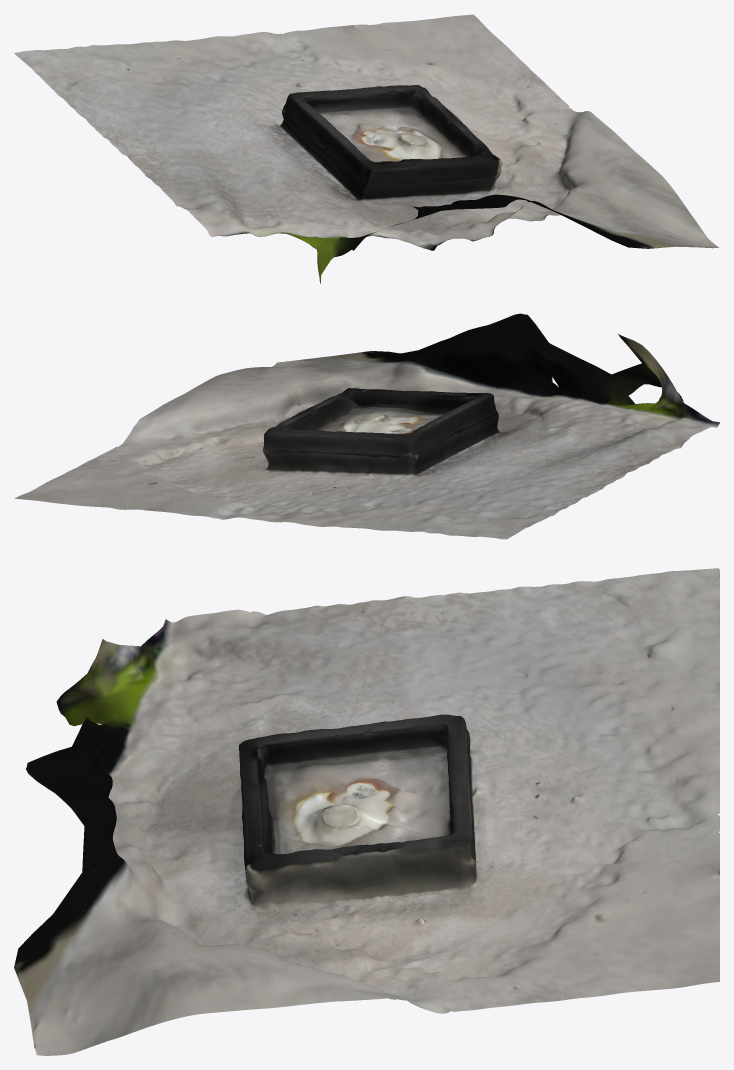
3 renders of one model, top to bottom at view 1: azimuth 30°, elevation 25°; view 2: azimuth 150°, elevation 25°; view 3: azimuth 270°, elevation 25°, orthographic. The views are drawn at different scales.
Bounding box in the file's own units: 2.32 × 0.6208 × 2.22.
Materials: 1 (1 with a texture image).
